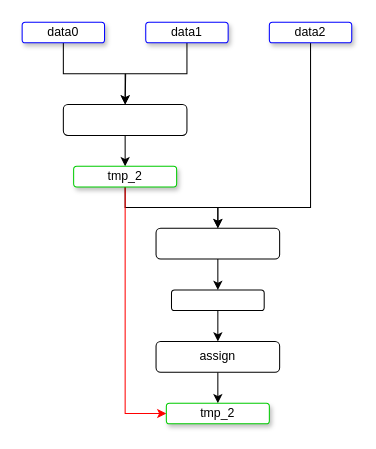
This 376x449 diagram has some shape labels left out. Here are the shapes that lost their labels. From the top down, the centre of each, then its label:
[124,119]: elementwise_sub
[217,243]: elementwise_mul
[217,300]: tmp_3
